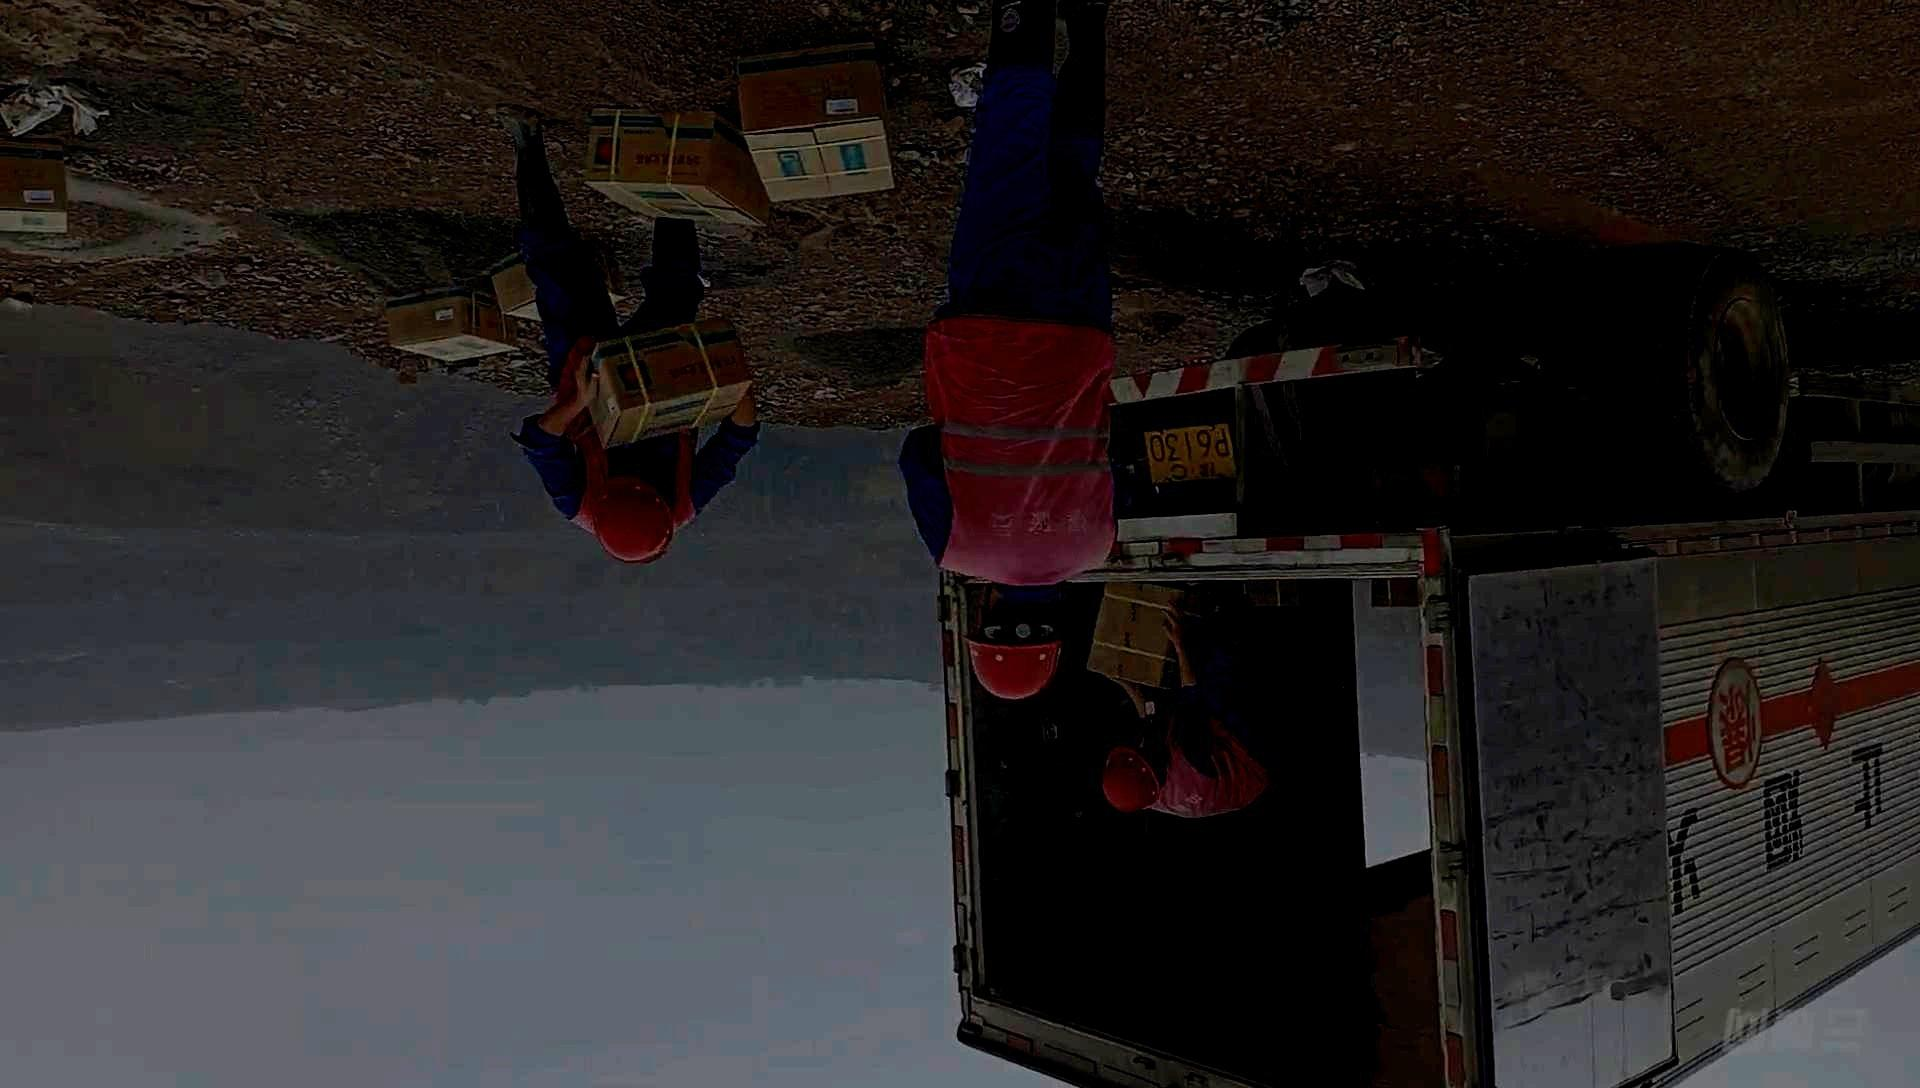helmet: (961, 587, 1065, 700), (589, 477, 674, 566), (1101, 732, 1164, 811)
